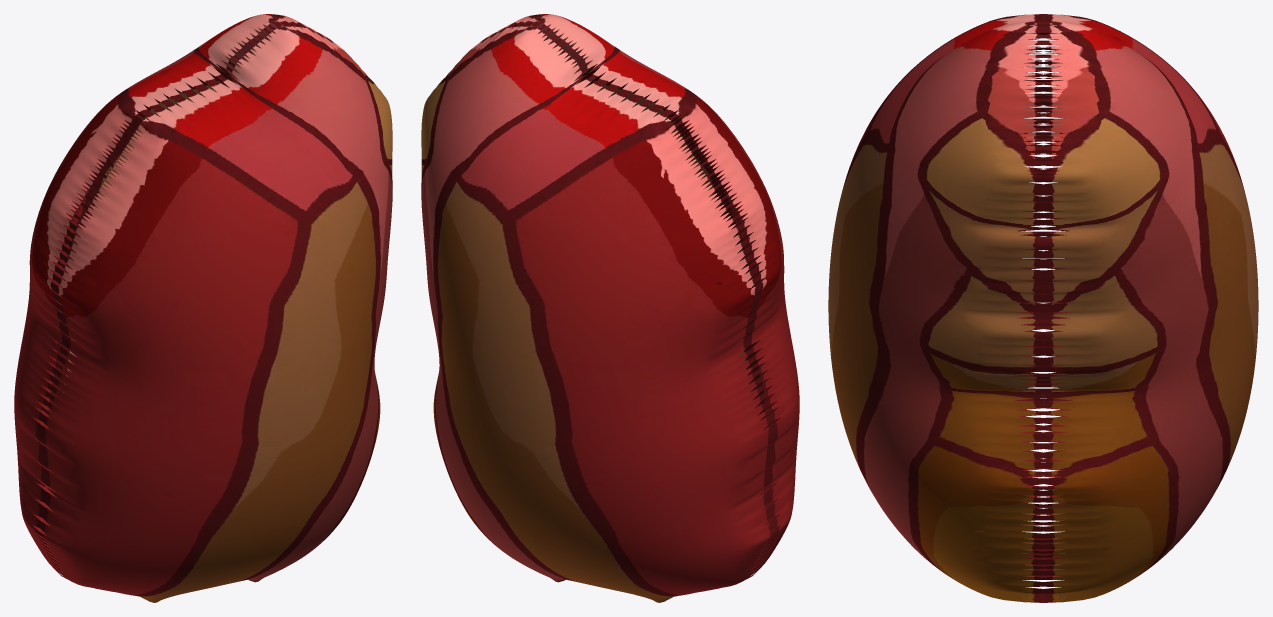
Rendered from rock_fin.glb.
3 views of the same model, side by side, from view 1: azimuth 30°, elevation 25°; view 2: azimuth 150°, elevation 25°; view 3: azimuth 270°, elevation 25° (orthographic). The views are drawn at different scales.
Parts seen in each view (by area): view 1: rock_fin; view 2: rock_fin; view 3: rock_fin.
Part boxes in pixels (<box>): rock_fin: <box>14,14,392,602</box>; rock_fin: <box>421,14,799,602</box>; rock_fin: <box>828,14,1258,602</box>.
Bounding box in the file's own units: 0.9833 × 1.46 × 0.962.
Materials: 1 (1 with a texture image).
